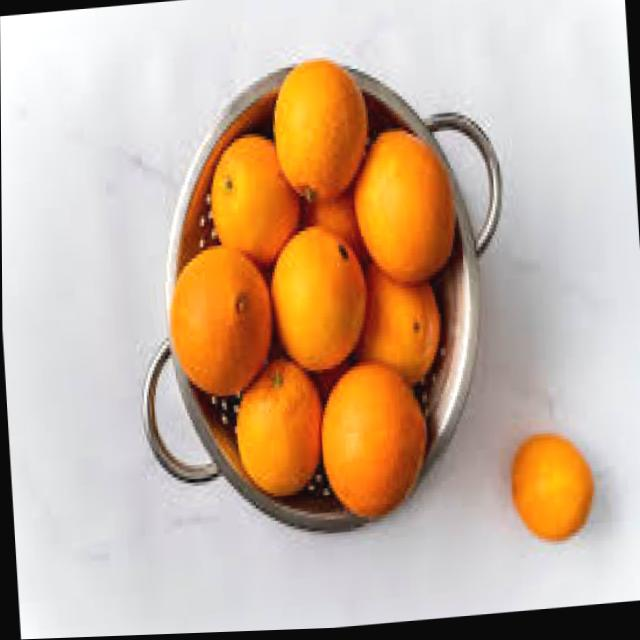orange: (315, 357, 432, 521), (350, 126, 459, 289), (165, 246, 273, 405), (268, 223, 371, 376), (269, 56, 372, 206), (231, 356, 326, 500), (206, 132, 302, 271), (354, 264, 442, 392), (507, 431, 595, 549)
